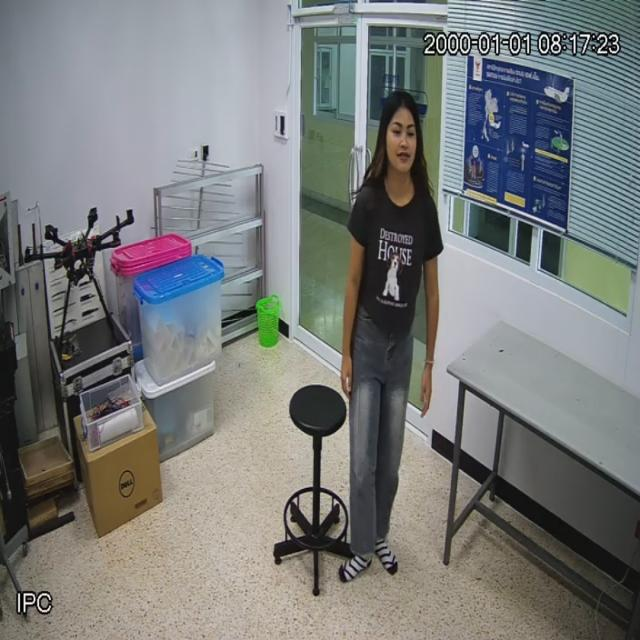normal: (340, 89, 446, 587)
